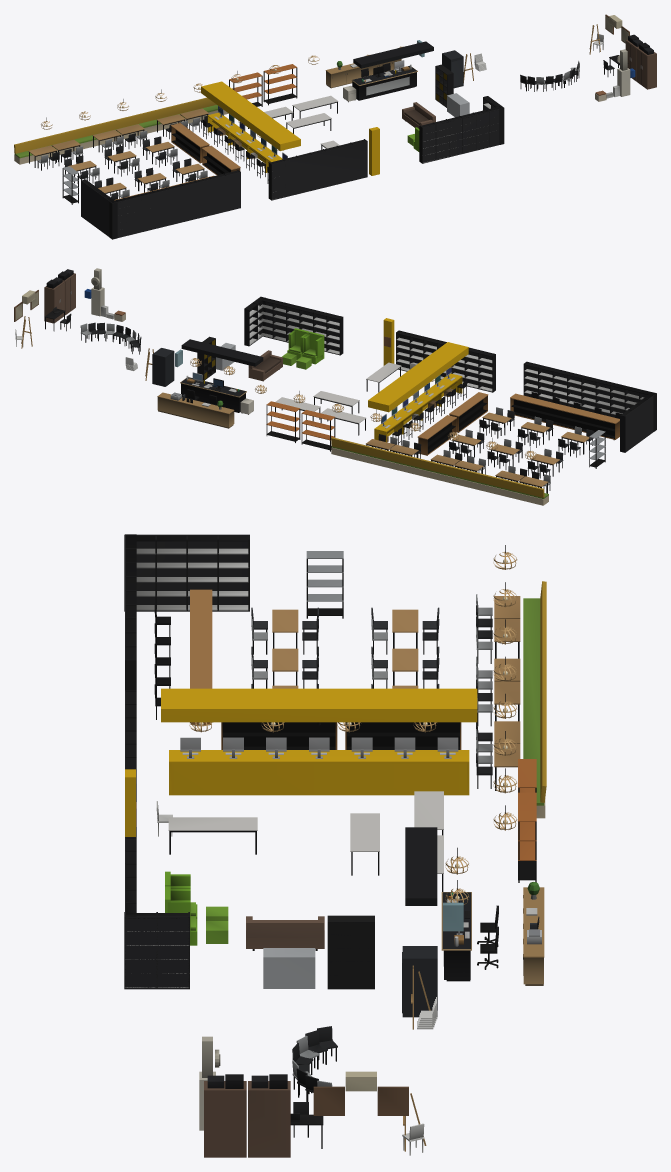
File: library.glb
The picture shows the model from 3 angles, top to bottom: view 1: azimuth 30°, elevation 25°; view 2: azimuth 150°, elevation 25°; view 3: azimuth 270°, elevation 25°; orthographic projection. The views are drawn at different scales.
Parts seen in each view (by area): view 1: lib_solid, bunker_solid, lib_rattan; view 2: lib_solid, bunker_solid, lib_rattan, lib_glow; view 3: lib_solid, bunker_solid, lib_rattan.
Part boxes in pixels (bbox=[...]): lib_solid: bbox=[14, 40, 504, 239]; bunker_solid: bbox=[442, 14, 656, 101]; lib_rattan: bbox=[41, 46, 403, 151]; lib_solid: bbox=[157, 296, 656, 505]; bunker_solid: bbox=[14, 268, 174, 386]; lib_rattan: bbox=[190, 358, 536, 459]; lib_glow: bbox=[193, 362, 531, 455]; lib_solid: bbox=[124, 534, 546, 989]; bunker_solid: bbox=[199, 946, 437, 1157]; lib_rattan: bbox=[189, 552, 517, 904].
Size of the model in its own units: 35.23 by 2.71 by 11.39.
